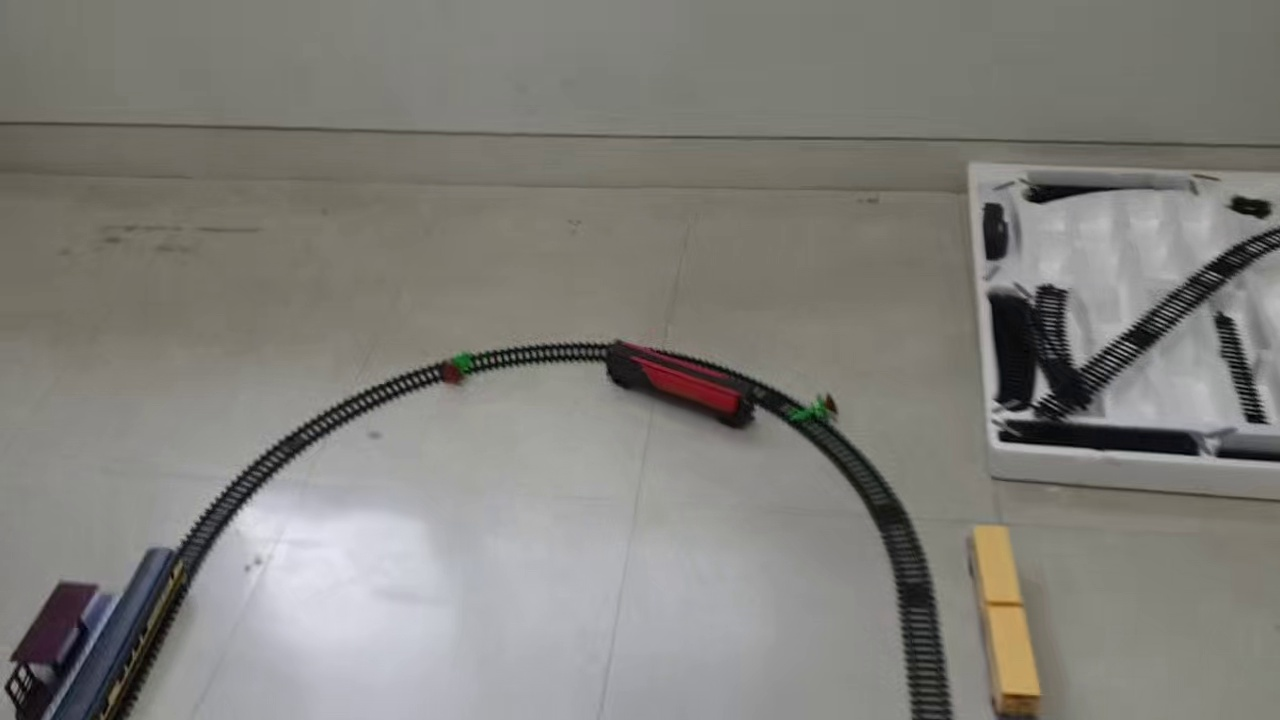tree: (779, 393, 841, 424), (433, 346, 475, 387)
